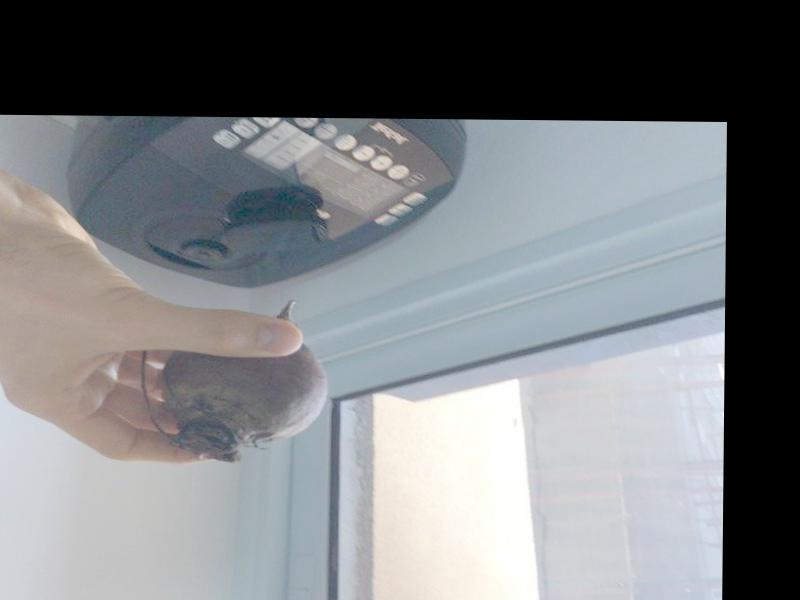Beet: (142, 299, 328, 463)
